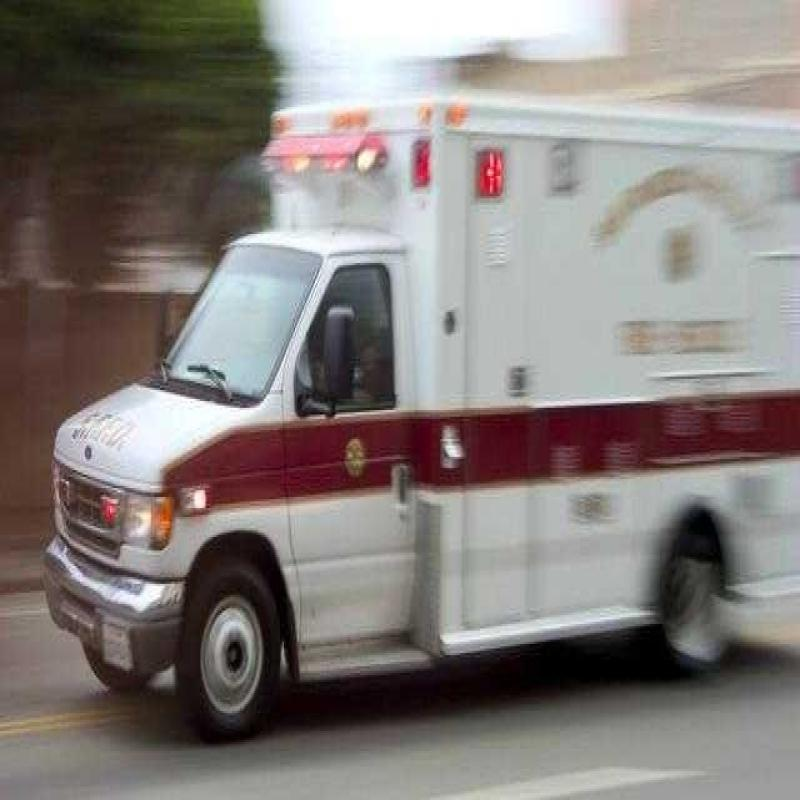AmbulanceSiren: (252, 102, 410, 200)
